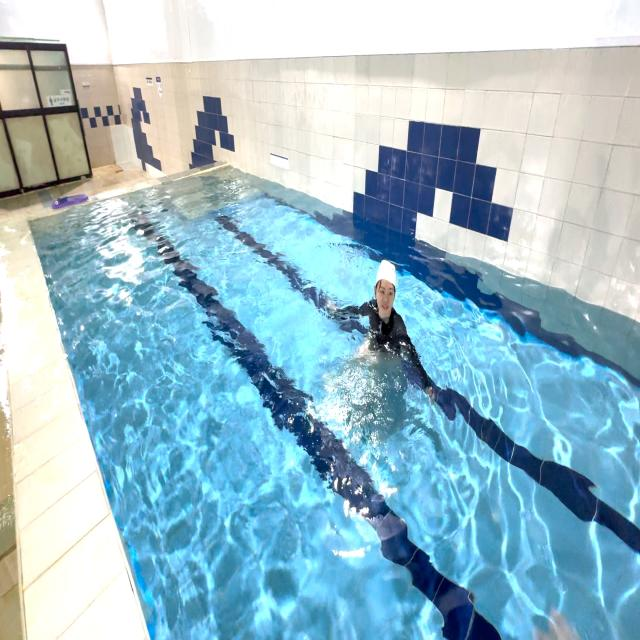Swimming: (320, 259, 438, 406)
